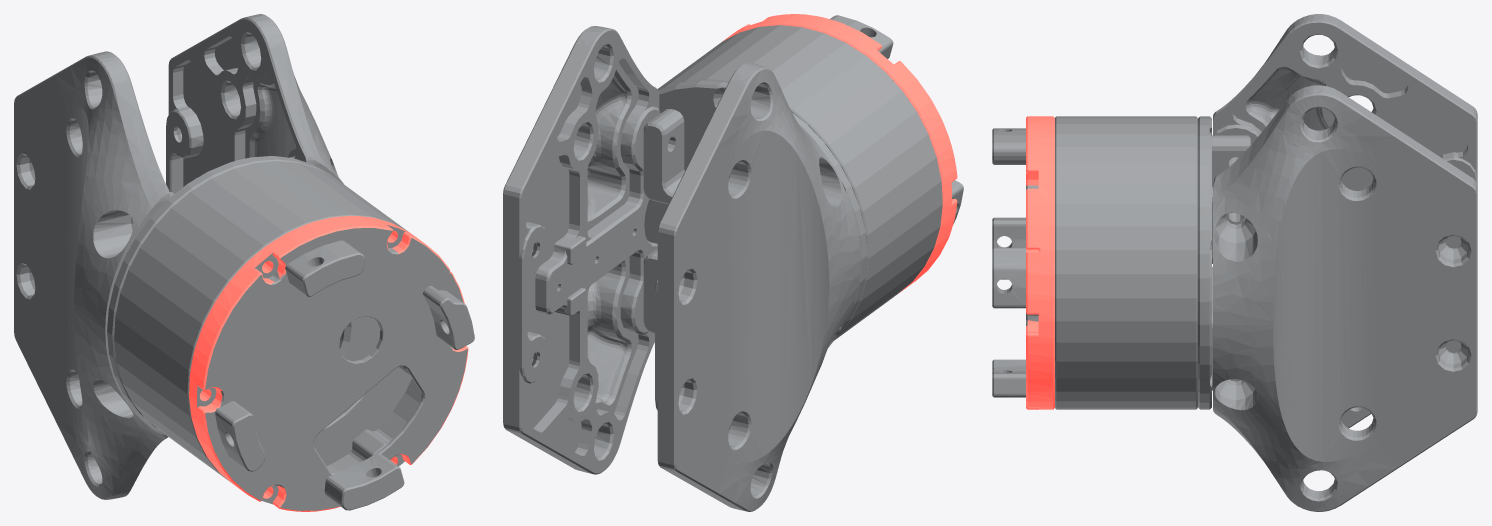
3 renders of one model, left to right at view 1: azimuth 30°, elevation 25°; view 2: azimuth 150°, elevation 25°; view 3: azimuth 270°, elevation 25°, orthographic. The views are drawn at different scales.
Parts seen in each view (by area): view 1: gripper_base_001, gripper_base_003, gripper_base_002; view 2: gripper_base_003, gripper_base_002, gripper_base_001; view 3: gripper_base_002, gripper_base_001, gripper_base_003.
Part boxes in pixels (bbox=[...]): gripper_base_001: bbox=[107, 156, 474, 511]; gripper_base_003: bbox=[14, 51, 169, 499]; gripper_base_002: bbox=[166, 14, 343, 193]; gripper_base_003: bbox=[655, 62, 860, 511]; gripper_base_002: bbox=[503, 26, 660, 474]; gripper_base_001: bbox=[643, 14, 963, 340]; gripper_base_002: bbox=[1213, 85, 1477, 511]; gripper_base_001: bbox=[992, 116, 1250, 409]; gripper_base_003: bbox=[1213, 14, 1477, 428].
Size of the model in its own units: 0.061 by 0.0964 by 0.1009.
